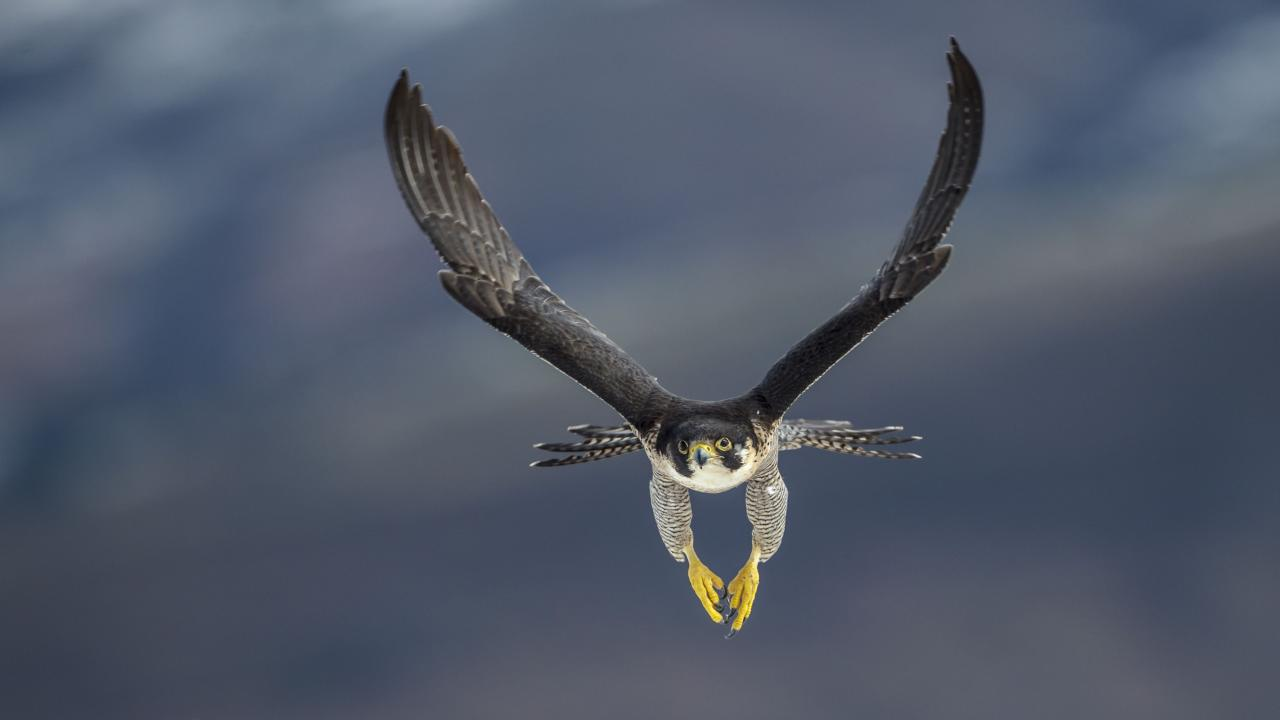Bird: (360, 33, 1020, 639)
